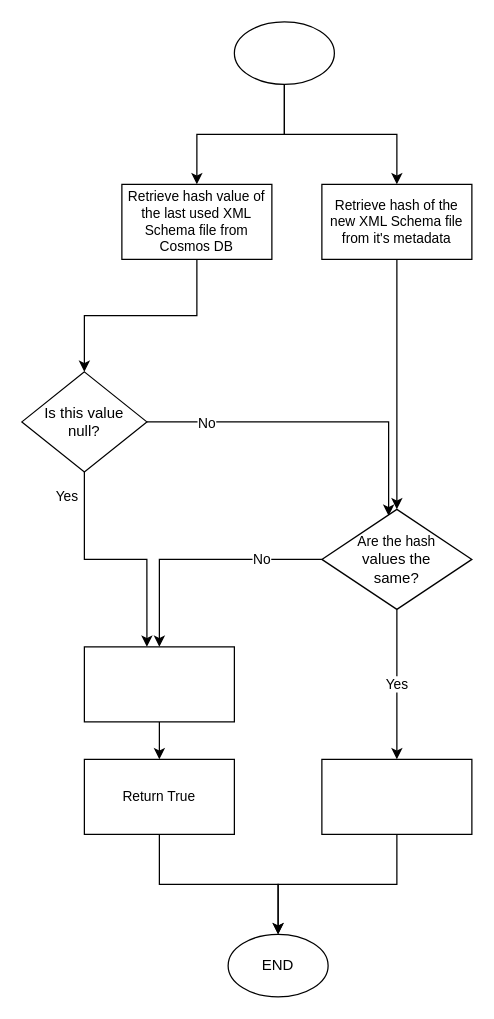
Some shapes in this 494 by 1019 pixel diagram are drawn without their labels. The shapes that lost their labels are listed below. From the top down, each one's centre as x and y in pixels, then its label:
(x=283, y=52): START
(x=158, y=684): Update Cosmos DB with new XSD file's hash value
(x=396, y=796): Return False
